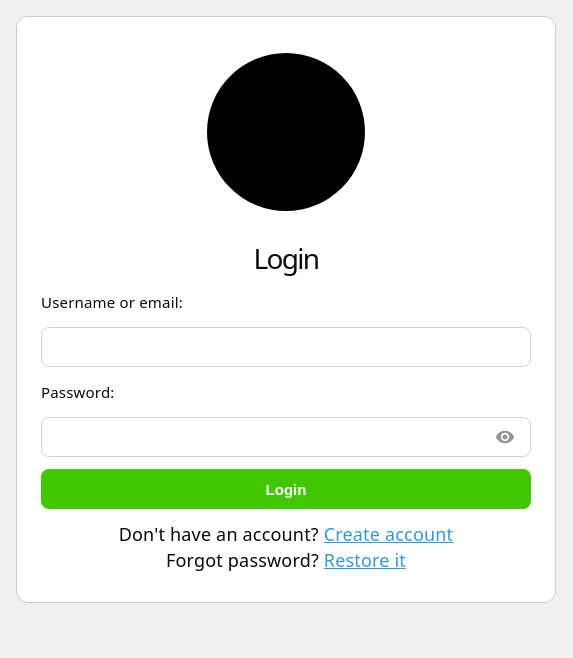
Home - Integration Tests › failed login shows error state
The image size is (573, 658).
In the field with test id "input-username": (286, 347) [41,327,531,367], type "test@example.com"
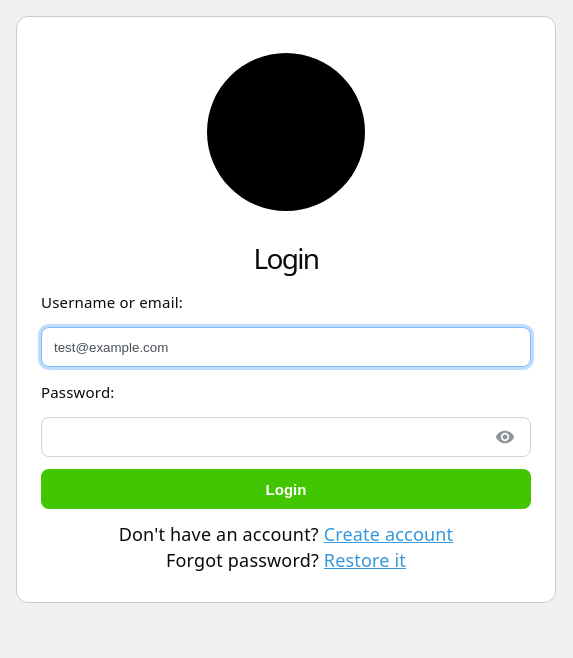
In the password field with test id "input-password": (286, 437) [41,417,531,457], type "StrongPass123!"
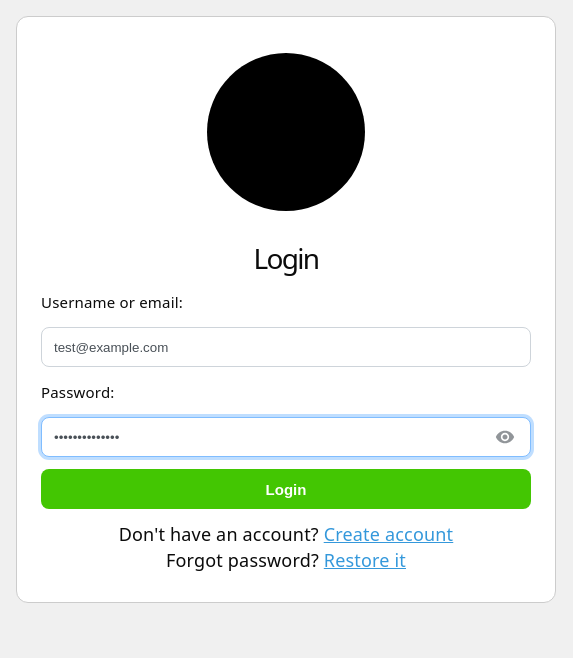
Click the button with test id "submit-login": (286, 489) [41,469,531,509]
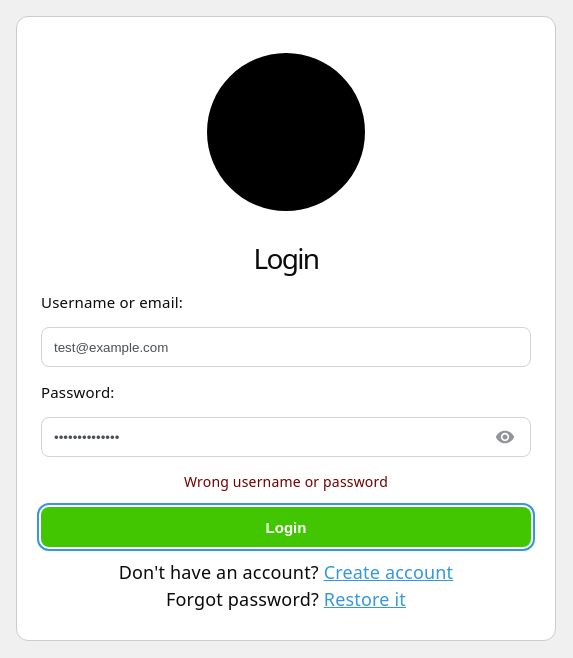
Check: the message "Wrong username or password" is shown, box [184,472,388,491]
